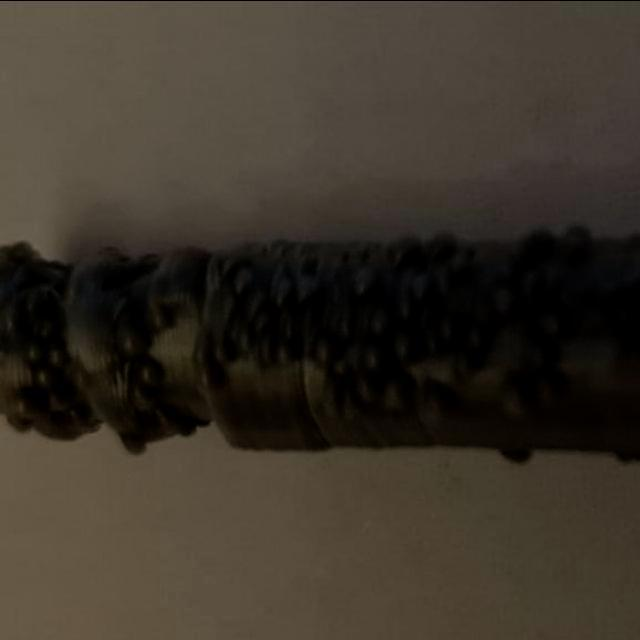zits: (111, 315, 156, 363), (497, 367, 533, 417), (305, 328, 341, 370), (424, 376, 456, 422), (380, 370, 410, 416), (392, 324, 424, 364), (411, 264, 441, 306), (488, 270, 518, 312), (361, 339, 391, 380), (437, 304, 468, 342), (348, 260, 380, 296), (364, 300, 394, 338), (254, 300, 284, 338), (198, 360, 227, 396), (298, 268, 326, 300), (136, 356, 165, 386), (18, 336, 46, 366), (48, 386, 78, 414), (43, 336, 69, 368), (270, 272, 296, 304), (121, 426, 148, 456), (18, 389, 42, 421), (214, 339, 238, 371), (278, 332, 301, 364), (228, 264, 254, 292), (31, 363, 55, 392), (152, 302, 174, 328), (140, 386, 164, 408)
